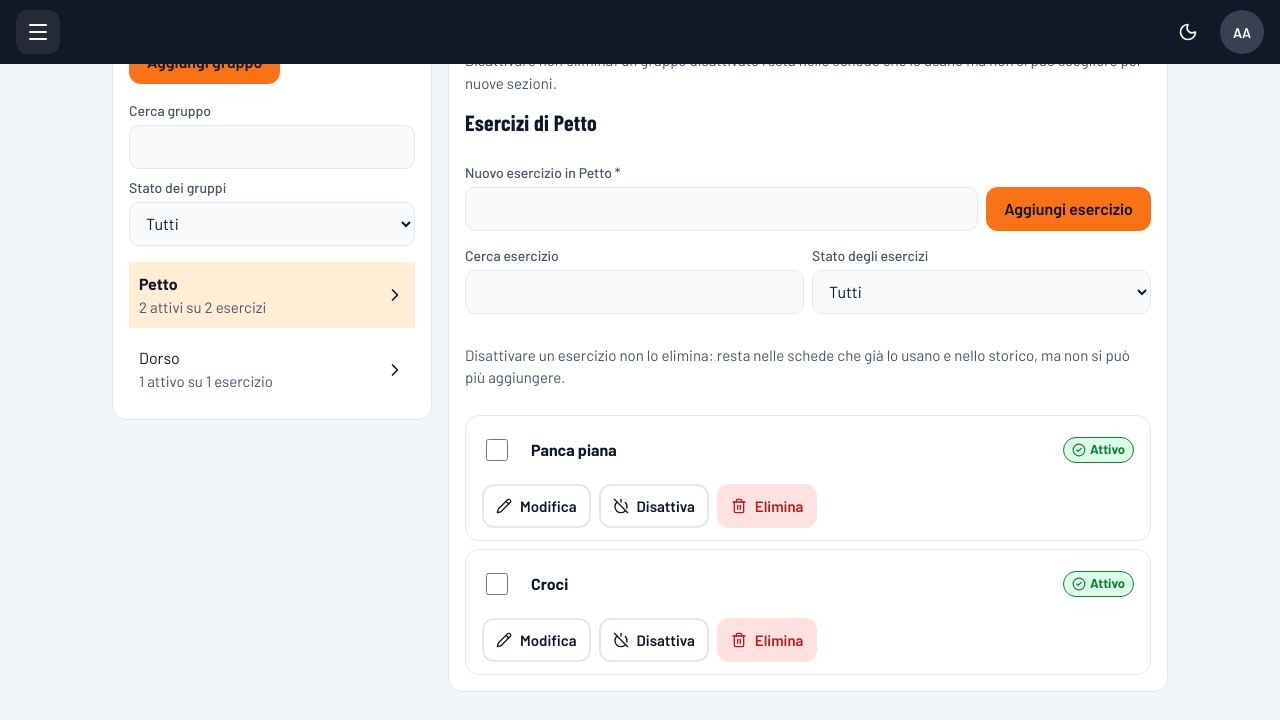
unified catalog page › deactivates several exercises at once and keeps the textual status
(page scrolled)
Click the checkbox named "Seleziona Panca piana" next to "Panca piana".
click(497, 450)  # box 486,439 -> 508,461
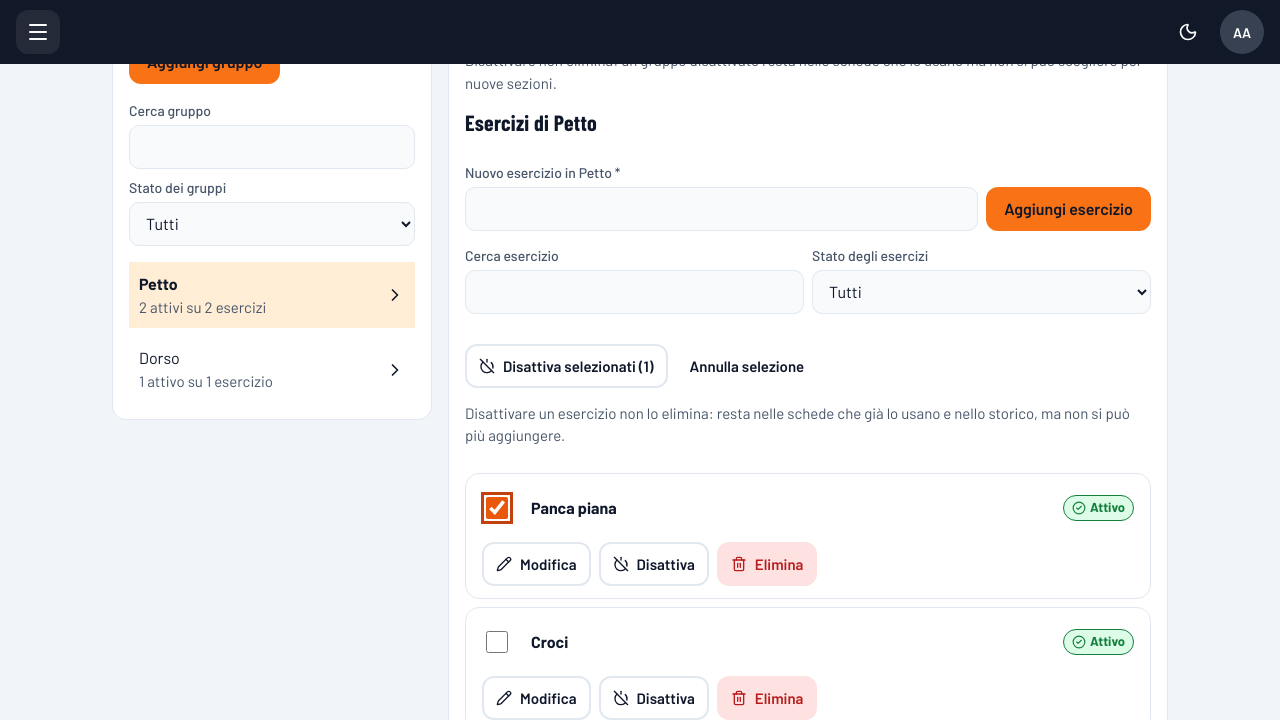
Click the checkbox named "Seleziona Croci" next to "Croci".
click(497, 642)  # box 486,631 -> 508,653
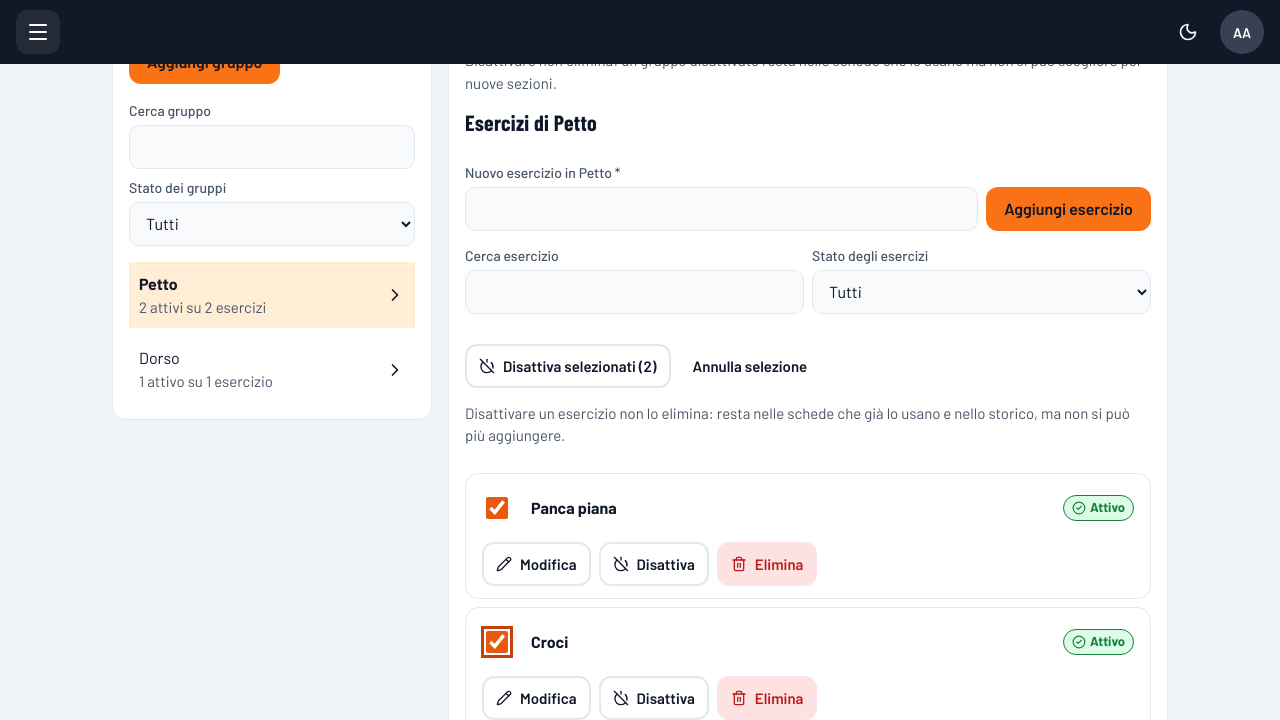
Click the button "Disattiva selezionati (2)".
click(568, 366)  # box 465,344 -> 671,388
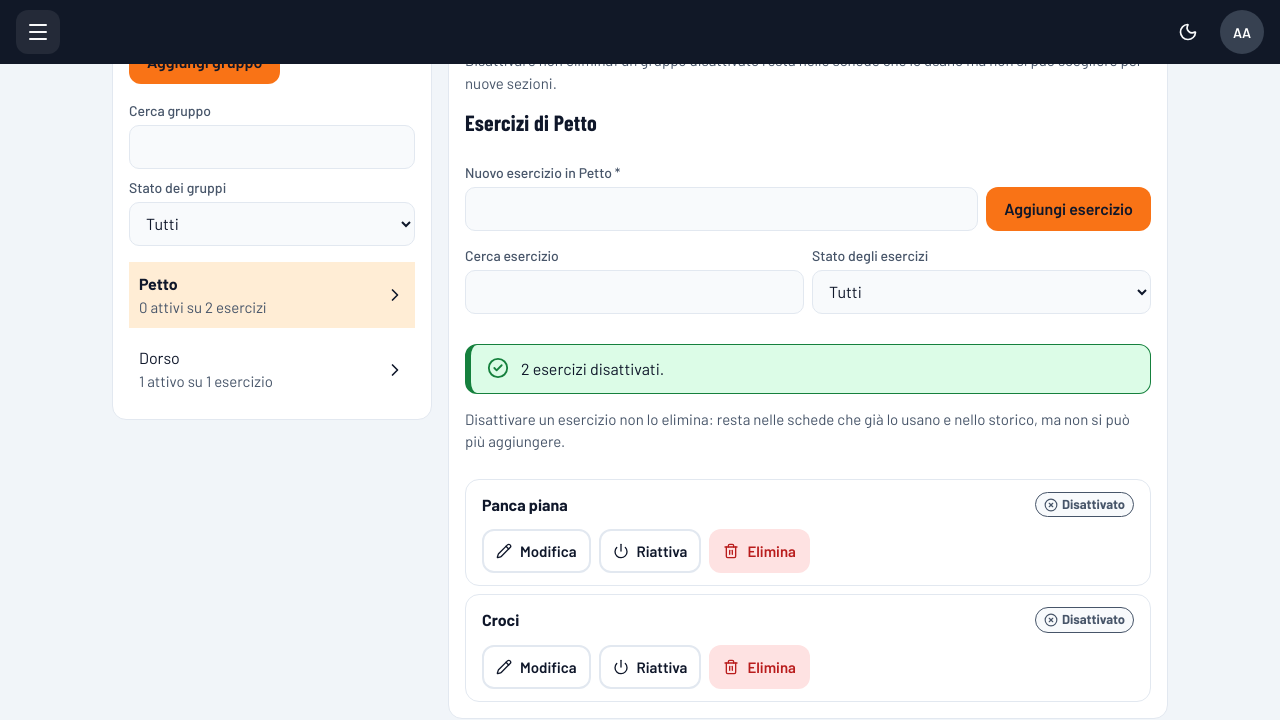
Expected: the text "Disattivato" is shown 2 times, 1035,492 -> 1134,517; 1035,607 -> 1134,633
Expected: the text "2 esercizi disattivati." is shown, 521,359 -> 664,378
Expected: the button with aria-label "Riattiva Croci" is shown, 598,645 -> 701,689
